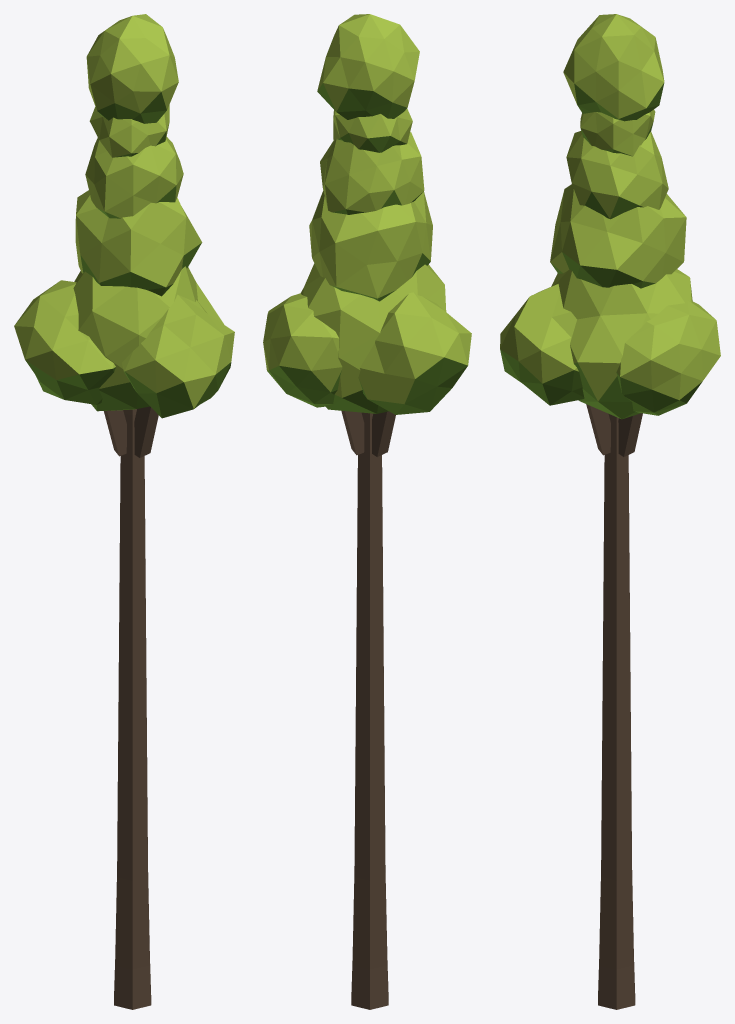
The model's file is SM_Street_Tree_Ginkgo_S_01.gltf.
3 renders of one model, left to right at view 1: azimuth 30°, elevation 25°; view 2: azimuth 150°, elevation 25°; view 3: azimuth 270°, elevation 25°, orthographic.
Visible parts, largest first — view 1: SM_Street_Tree_Ginkgo_S_01; view 2: SM_Street_Tree_Ginkgo_S_01; view 3: SM_Street_Tree_Ginkgo_S_01.
Boxes of the visible parts, left/top/right/bottom form: SM_Street_Tree_Ginkgo_S_01: left=14, top=14, right=234, bottom=1009; SM_Street_Tree_Ginkgo_S_01: left=263, top=14, right=471, bottom=1009; SM_Street_Tree_Ginkgo_S_01: left=500, top=14, right=720, bottom=1009.
Bounding box in the file's own units: 0.8442 × 4.25 × 0.862.
1 material, 1 textured.
